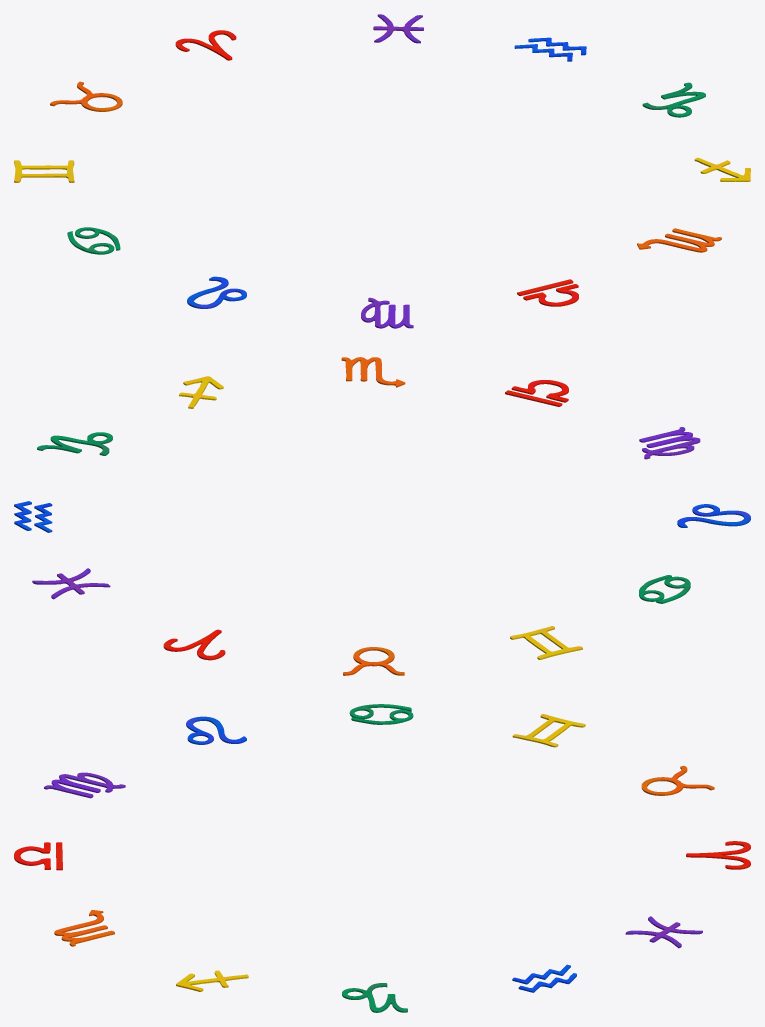
The model's file is Zodiac_signs.glb.
3 renders of one model, top to bottom at view 1: azimuth 30°, elevation 25°; view 2: azimuth 150°, elevation 25°; view 3: azimuth 270°, elevation 25°, orthographic.
Visible parts, largest first — view 1: Zodiac; view 2: Zodiac; view 3: Zodiac.
Part boxes in pixels (x1,y1,x2,y2): Zodiac: (14, 14, 750, 328); Zodiac: (14, 357, 750, 675); Zodiac: (14, 704, 750, 1012).
Size of what is drawn, in the model's own units: 40.98 by 1.87 by 41.53.
1 material, 1 textured.
